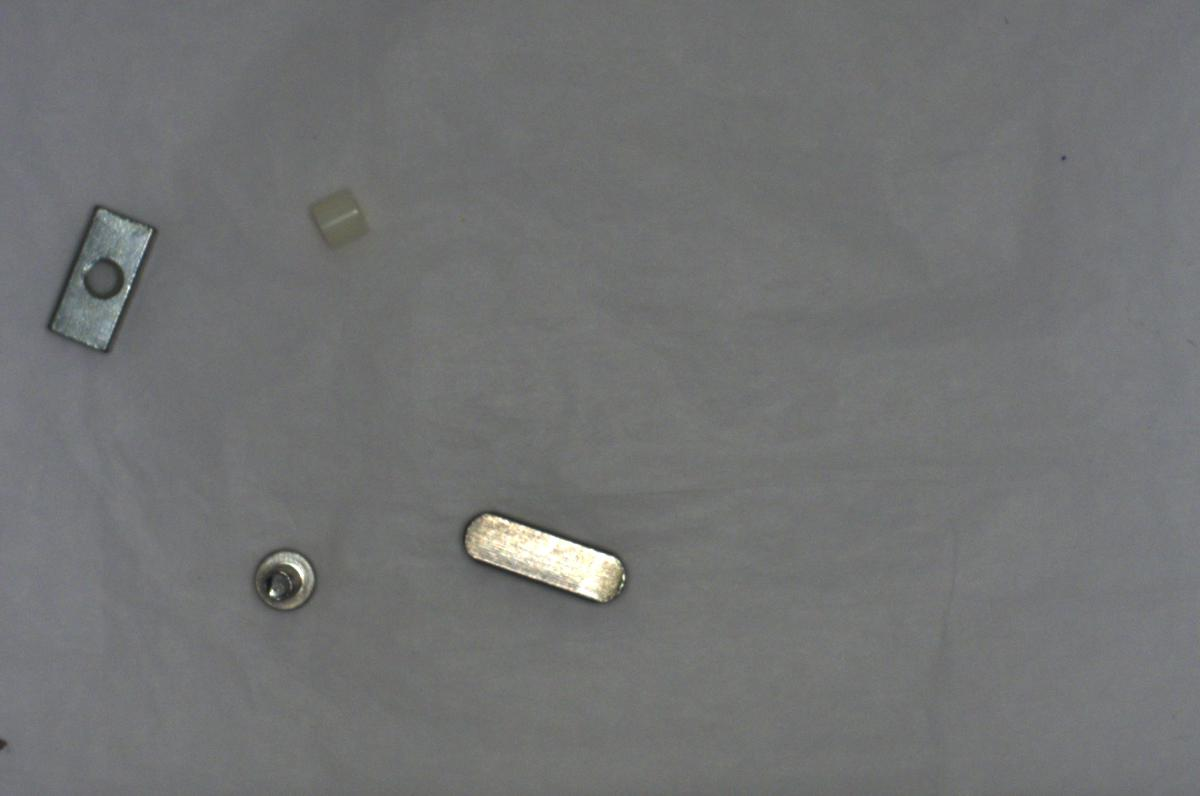Keybar: (460, 510, 632, 607)
Plastic cushion pillar: (302, 180, 371, 262)
Rectangular nut: (39, 202, 154, 359)
Round head screw: (240, 543, 321, 614)
